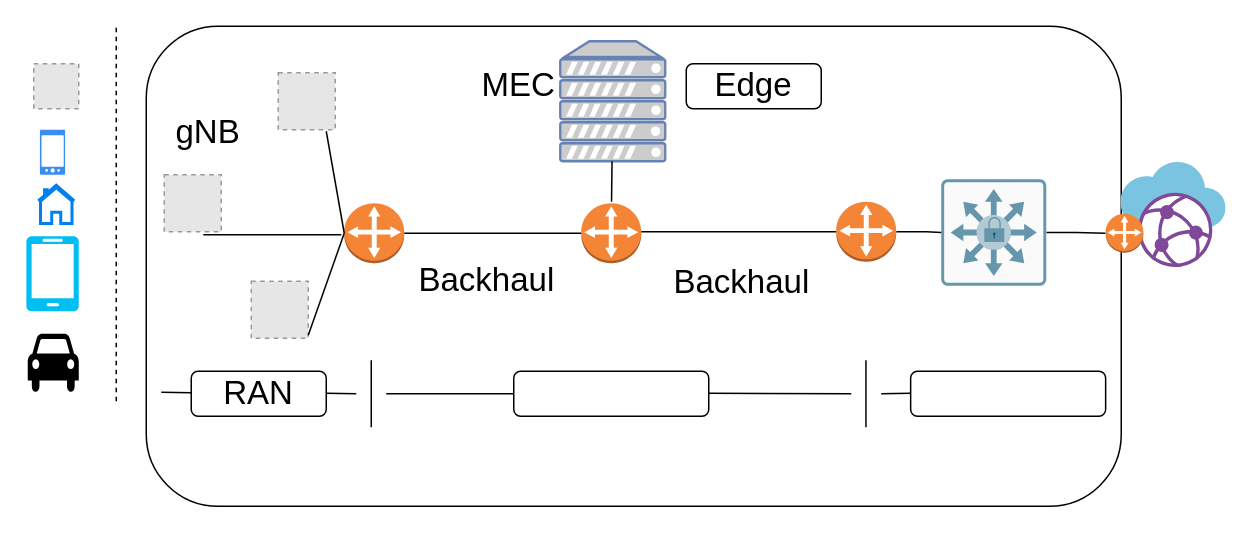
Image size: 1251x533. Some labels were removed from this diagram. Grey dashed boxes stand in for pictures. The centre of each missing label's shape, as x and y in pixels:
"Packet Core" goes at point 1007,393.
"Transport" goes at point 610,393.
